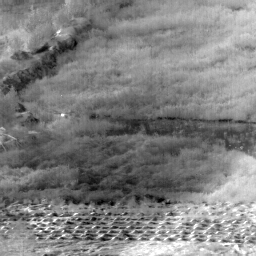aircraft: (62, 114, 64, 116)
